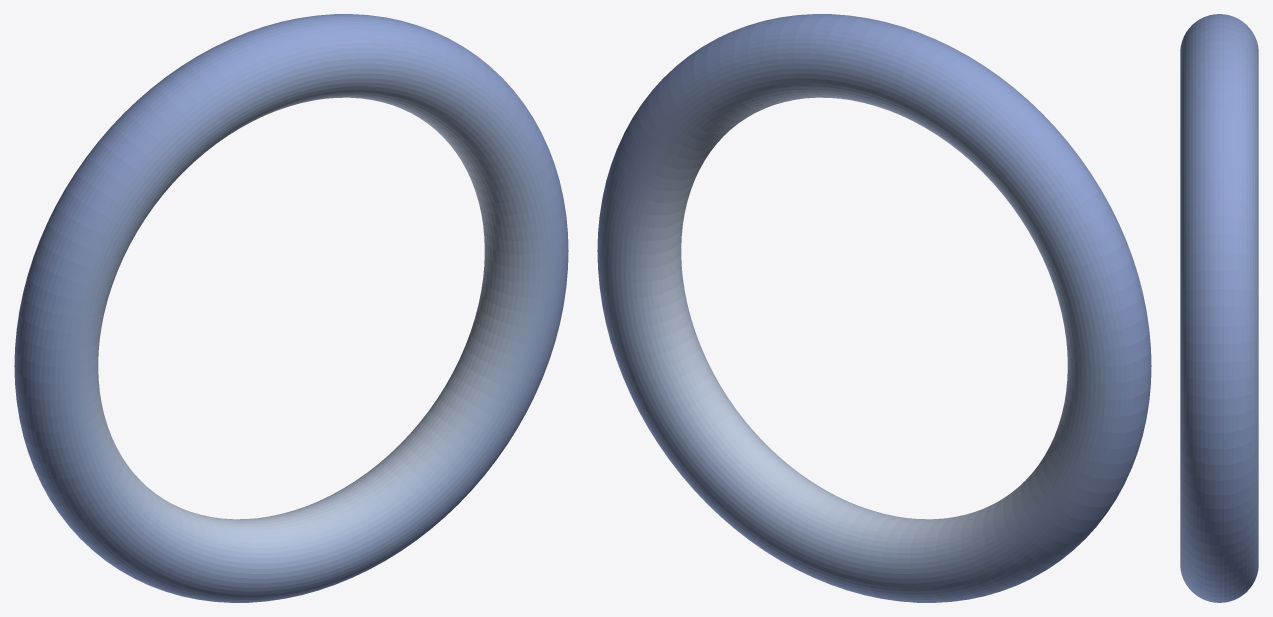
The picture shows the model from 3 angles, left to right: view 1: azimuth 30°, elevation 25°; view 2: azimuth 150°, elevation 25°; view 3: azimuth 270°, elevation 25°; orthographic projection. The views are drawn at different scales.
Visible parts, largest first — view 1: world; view 2: world; view 3: world.
Part boxes in pixels (x1,y1,x2,y2): world: (14, 14, 568, 602); world: (597, 14, 1151, 602); world: (1180, 14, 1258, 602).
Bounding box in the file's own units: 26.93 × 26.93 × 3.59.
